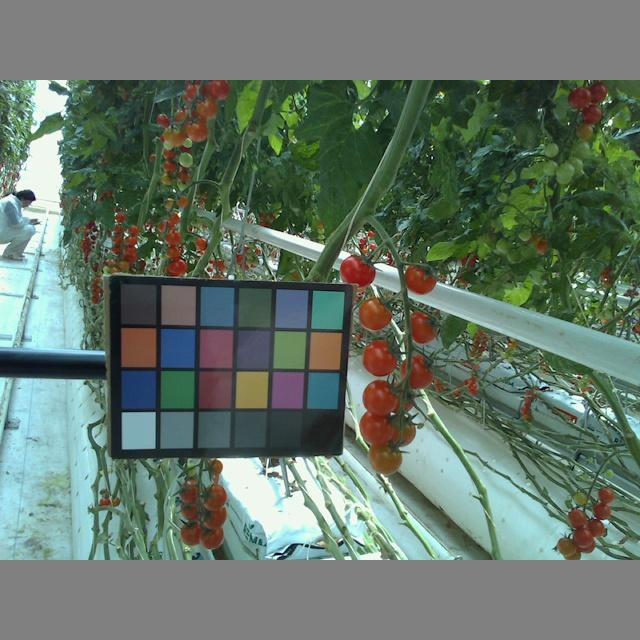pink: (367, 438, 402, 477), (359, 298, 394, 331), (566, 507, 587, 529), (556, 537, 577, 557), (590, 499, 612, 518), (572, 526, 591, 547), (587, 519, 606, 540), (204, 459, 225, 478), (597, 487, 615, 504)
red: (361, 378, 398, 417), (360, 338, 398, 375), (398, 354, 435, 392), (359, 409, 393, 447), (342, 251, 376, 288), (404, 261, 439, 296), (404, 310, 439, 343), (197, 522, 226, 550), (198, 483, 227, 510), (178, 520, 203, 545), (179, 478, 200, 506), (205, 507, 229, 530)
